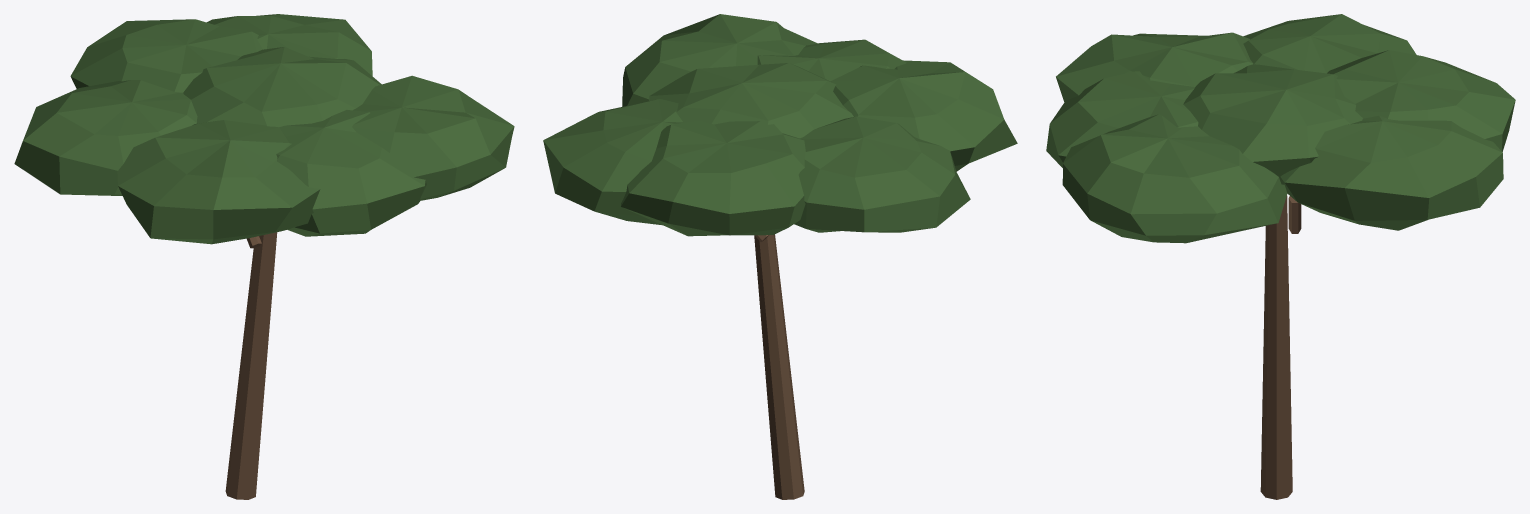
The model's file is a36_pine_a.glb.
3 renders of one model, left to right at view 1: azimuth 30°, elevation 25°; view 2: azimuth 150°, elevation 25°; view 3: azimuth 270°, elevation 25°, orthographic. The views are drawn at different scales.
Parts seen in each view (by area): view 1: body; view 2: body; view 3: body.
Boxes of the visible parts, x1,y1,x2,y2 form: body: [14, 14, 514, 499]; body: [543, 14, 1017, 499]; body: [1046, 14, 1515, 499].
Bounding box in the file's own units: 0.9926 × 1 × 1.
